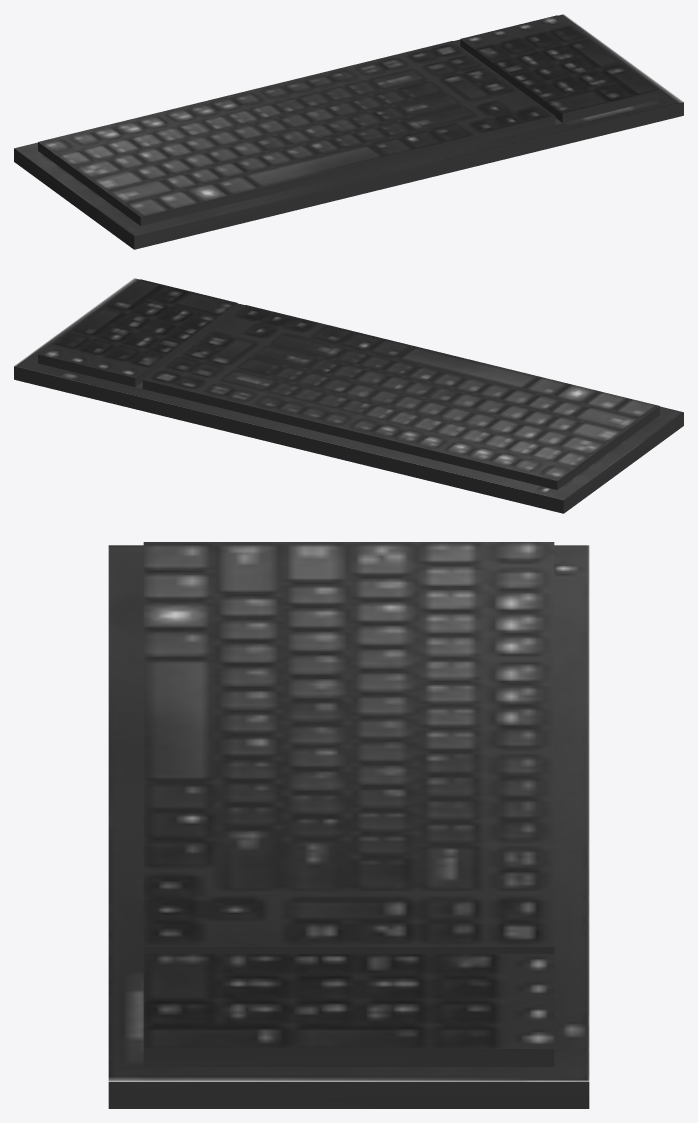
Rendered from Keyboard1.FBX.
The picture shows the model from 3 angles, top to bottom: view 1: azimuth 30°, elevation 25°; view 2: azimuth 150°, elevation 25°; view 3: azimuth 270°, elevation 25°; orthographic projection. The views are drawn at different scales.
Visible parts, largest first — view 1: Keyboard; view 2: Keyboard; view 3: Keyboard.
Boxes of the visible parts, x1,y1,x2,y2 form: Keyboard: [14, 14, 683, 249]; Keyboard: [14, 278, 683, 513]; Keyboard: [108, 542, 589, 1108].
Size of the model in its own units: 11.04 by 0.4337 by 4.18.
